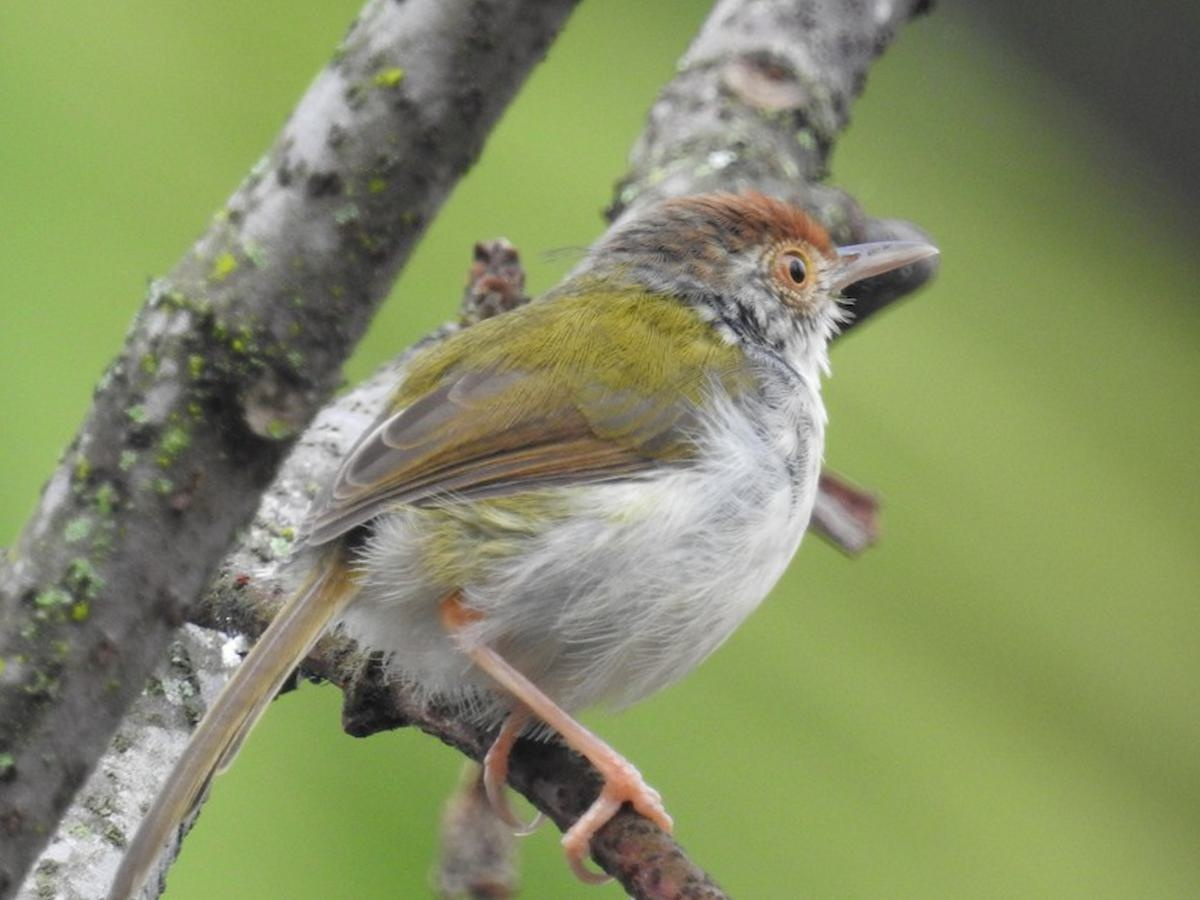tailorbird: (161, 150, 933, 837)
